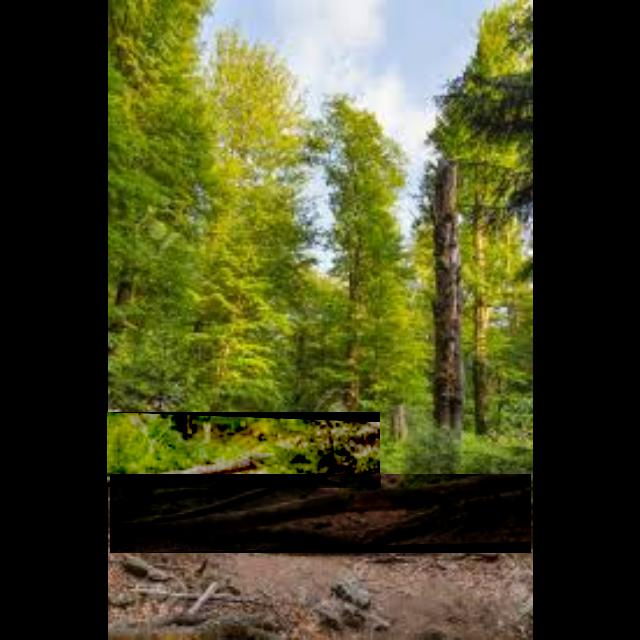Fallen Tree: (110, 474, 532, 554), (107, 412, 381, 488)
